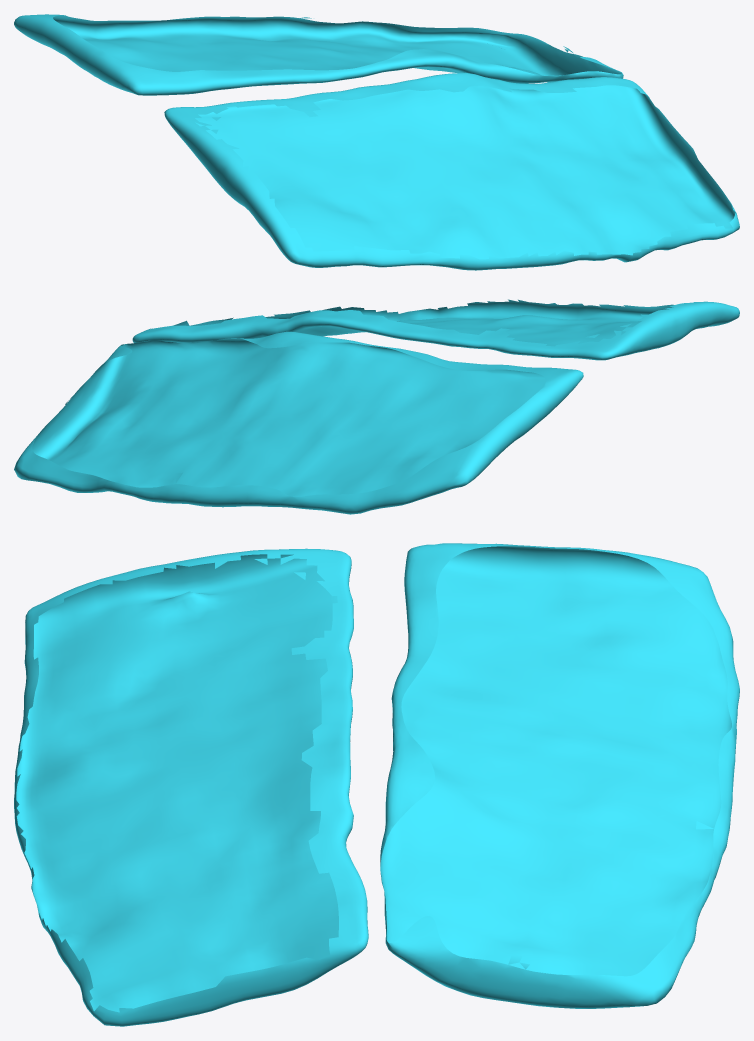
Rendered from Peritoneum1.obj.
3 renders of one model, top to bottom at view 1: azimuth 30°, elevation 25°; view 2: azimuth 150°, elevation 25°; view 3: azimuth 270°, elevation 25°, orthographic. The views are drawn at different scales.
Visible parts, largest first — view 1: Peritoneum1; view 2: Peritoneum1; view 3: Peritoneum1.
Part boxes in pixels (x1,y1,x2,y2): Peritoneum1: [14, 14, 739, 270]; Peritoneum1: [14, 299, 739, 514]; Peritoneum1: [14, 543, 739, 1026].
Size of the model in its own units: 7.42 by 2.49 by 7.97.
